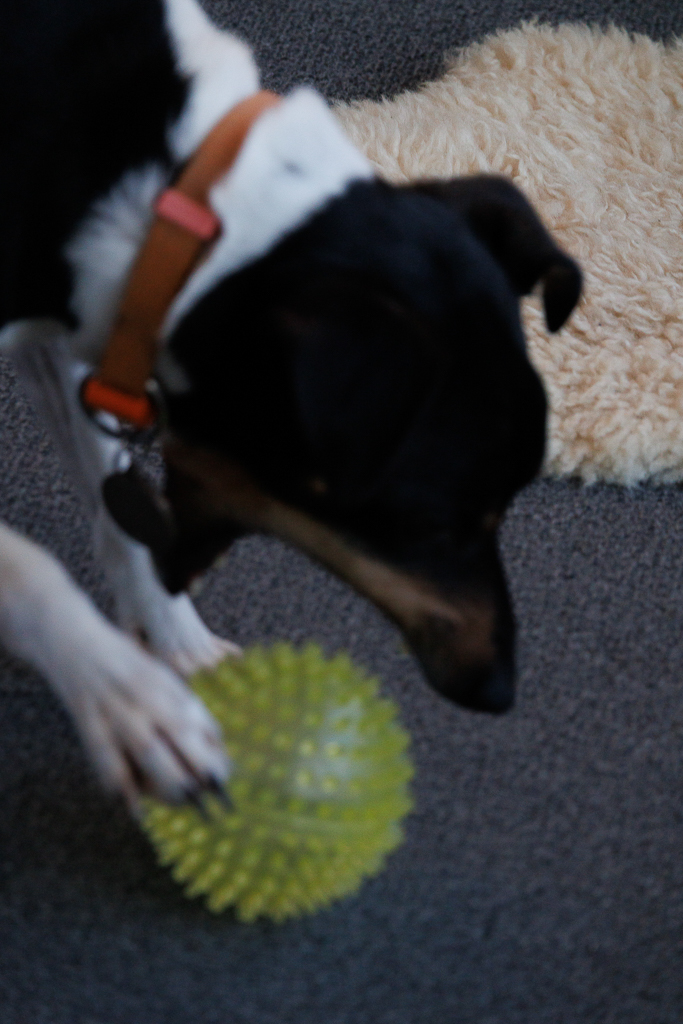Dog: (0, 0, 600, 849)
